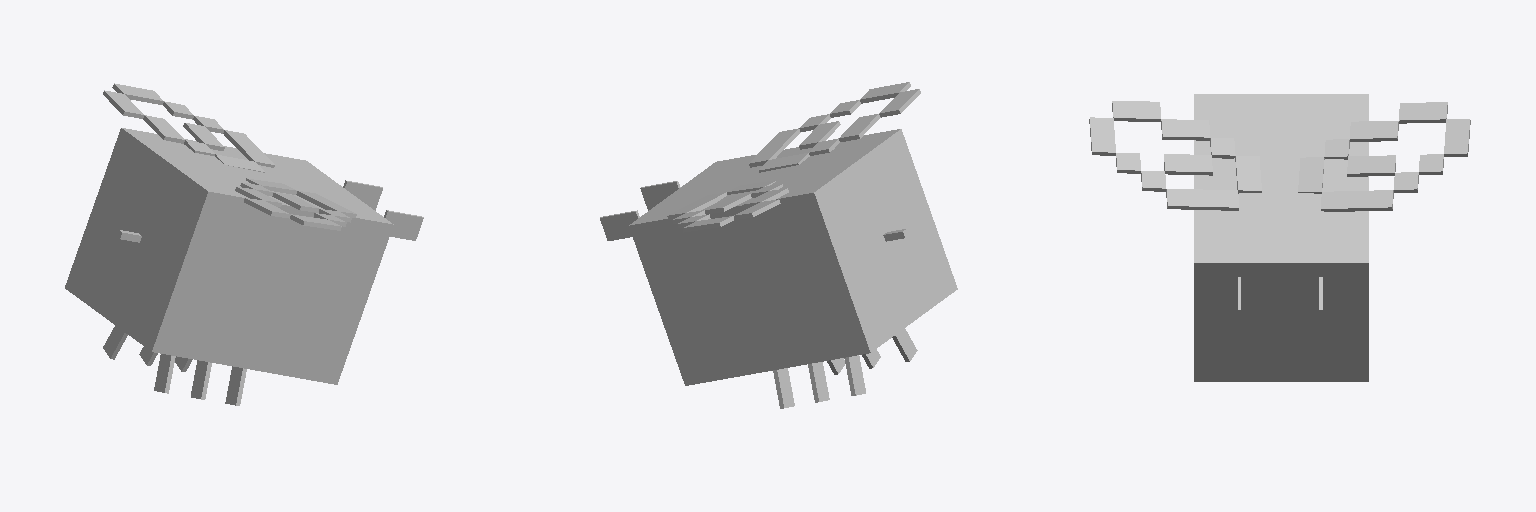
The model's file is Bee_ (118).obj.
The picture shows the model from 3 angles: view 1: azimuth 30°, elevation 25°; view 2: azimuth 150°, elevation 25°; view 3: azimuth 270°, elevation 25°; orthographic projection.
Visible parts, largest first — view 1: b_Bee_MAT_0, r_Bee_MAT_0, l_Bee_MAT_0; view 2: b_Bee_MAT_0, l_Bee_MAT_0, r_Bee_MAT_0; view 3: b_Bee_MAT_0, l_Bee_MAT_0, r_Bee_MAT_0.
Boxes of the visible parts, box(x1,y1,x2,y2) form: b_Bee_MAT_0: box(65, 128, 423, 405); r_Bee_MAT_0: box(103, 83, 274, 172); l_Bee_MAT_0: box(235, 178, 356, 230); b_Bee_MAT_0: box(600, 129, 957, 408); l_Bee_MAT_0: box(749, 82, 920, 172); r_Bee_MAT_0: box(667, 180, 788, 232); b_Bee_MAT_0: box(1194, 94, 1368, 381); l_Bee_MAT_0: box(1089, 101, 1261, 210); r_Bee_MAT_0: box(1298, 102, 1470, 211).
Size of the model in its own units: 0.3056 by 0.243 by 0.3432.